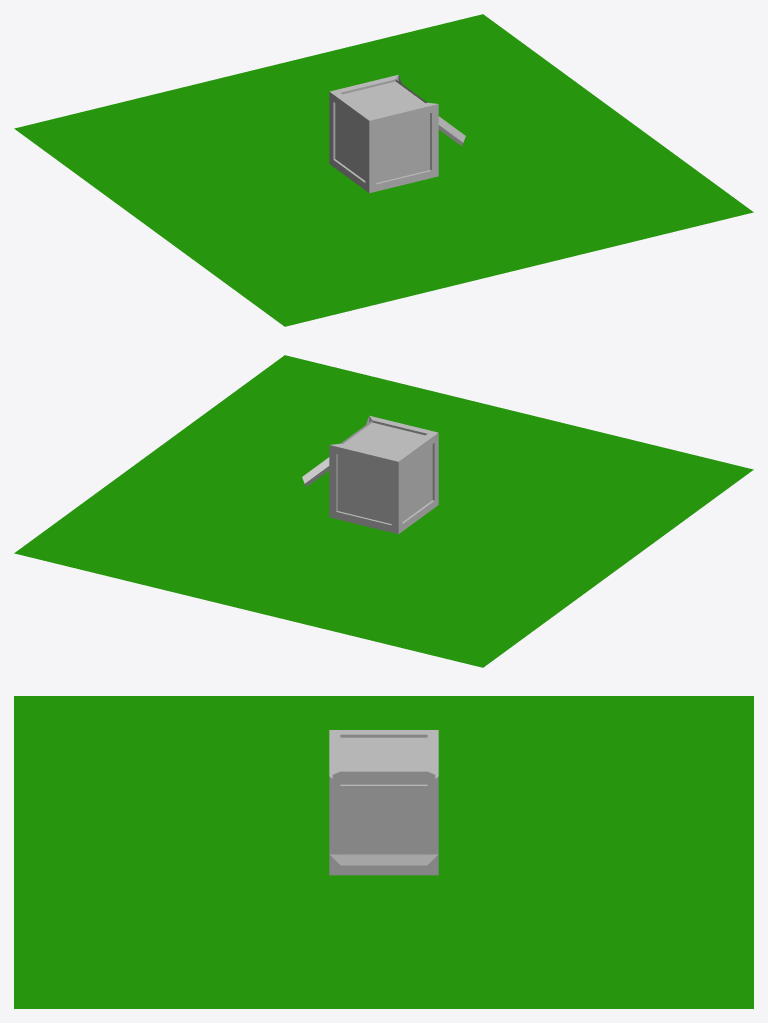
Rendered from caixa_000057.obj.
3 views of the same model, one above another, from view 1: azimuth 30°, elevation 25°; view 2: azimuth 150°, elevation 25°; view 3: azimuth 270°, elevation 25° (orthographic). The views are drawn at different scales.
Visible parts, largest first — view 1: Plane, Cube_Cube.003; view 2: Plane, Cube_Cube.003; view 3: Plane, Cube_Cube.003, Cube.002_Cube.001, Cube.001_Cube.000.
Part boxes in pixels (left/top/right/bottom): Plane: left=14, top=14, right=753, bottom=326; Cube_Cube.003: left=329, top=74, right=438, bottom=193; Plane: left=14, top=355, right=753, bottom=667; Cube_Cube.003: left=329, top=415, right=438, bottom=534; Plane: left=14, top=696, right=753, bottom=1008; Cube_Cube.003: left=329, top=730, right=438, bottom=875; Cube.002_Cube.001: left=340, top=784, right=427, bottom=854; Cube.001_Cube.000: left=330, top=854, right=437, bottom=864.
Size of the model in its own units: 13.55 by 2.01 by 13.55.
